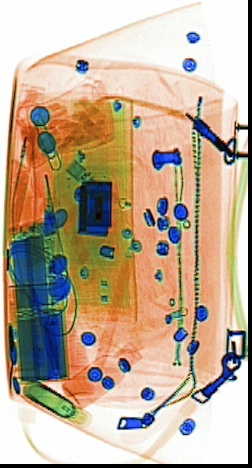powerbank: (3, 216, 69, 383)
